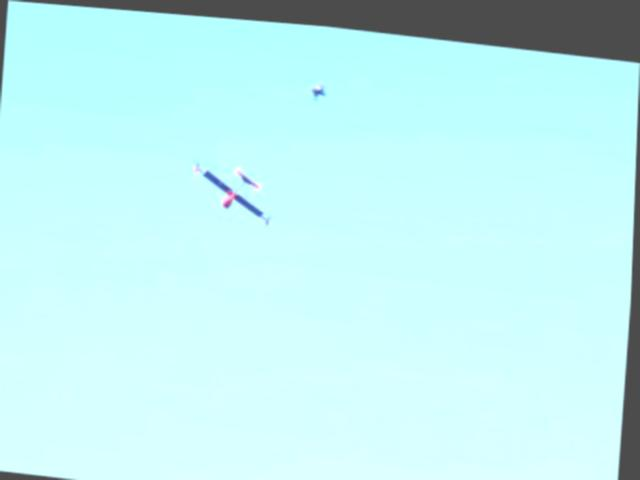uav: (184, 143, 282, 232)
